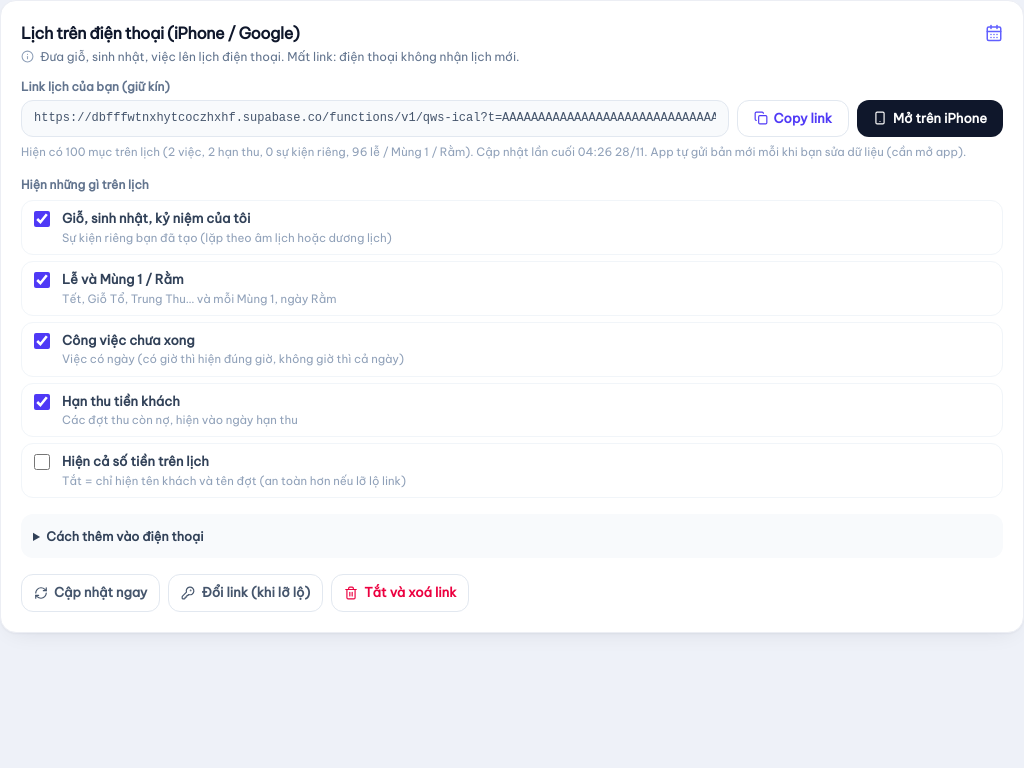
Test case: thẻ Lịch trên điện thoại (Cài đặt) › đổi link: hỏi xác nhận rồi đổi mã; tắt: hỏi xác nhận rồi xoá
The width and height of the screenshot is (1024, 768).
Click the button "Đổi link (khi lỡ lộ)": (246, 593) [168,574,323,612]
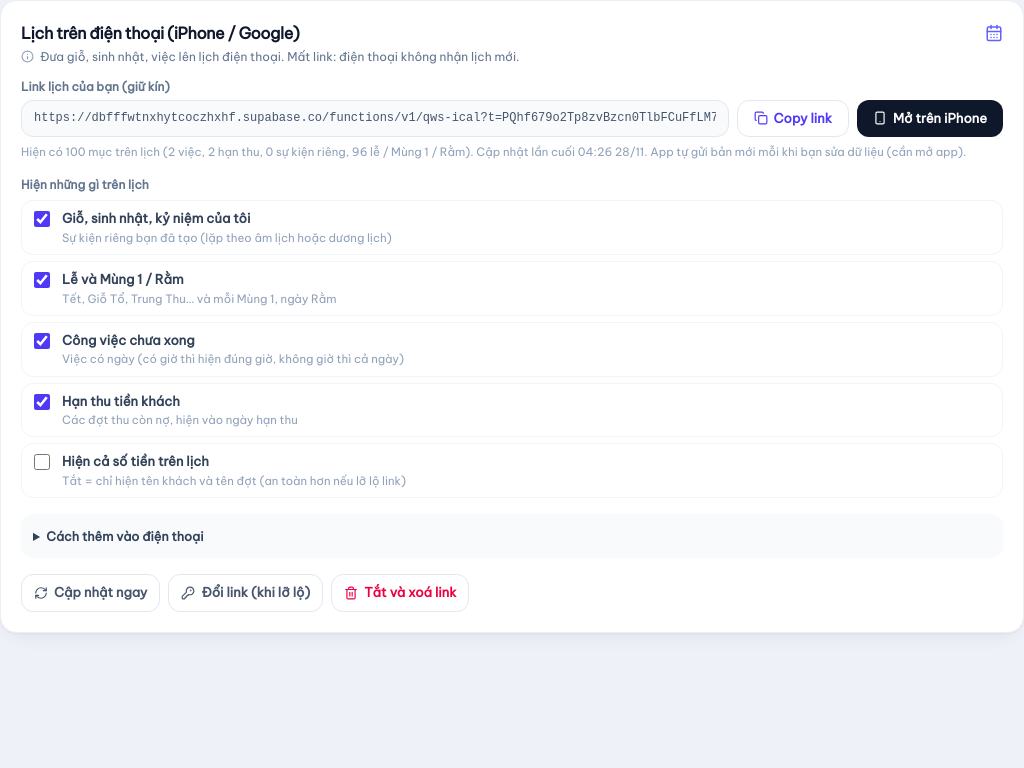
Click the button "Tắt và xoá link": (400, 593) [331,574,469,612]
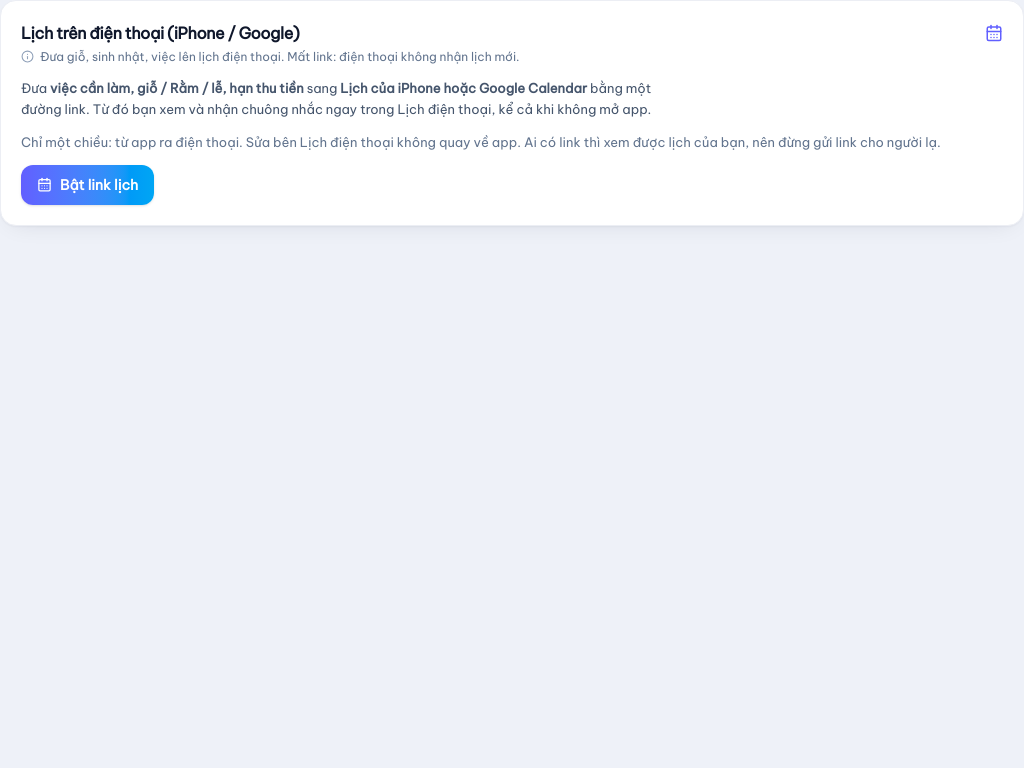
Result: the button "Bật link lịch" is shown at [21,165,154,205]
